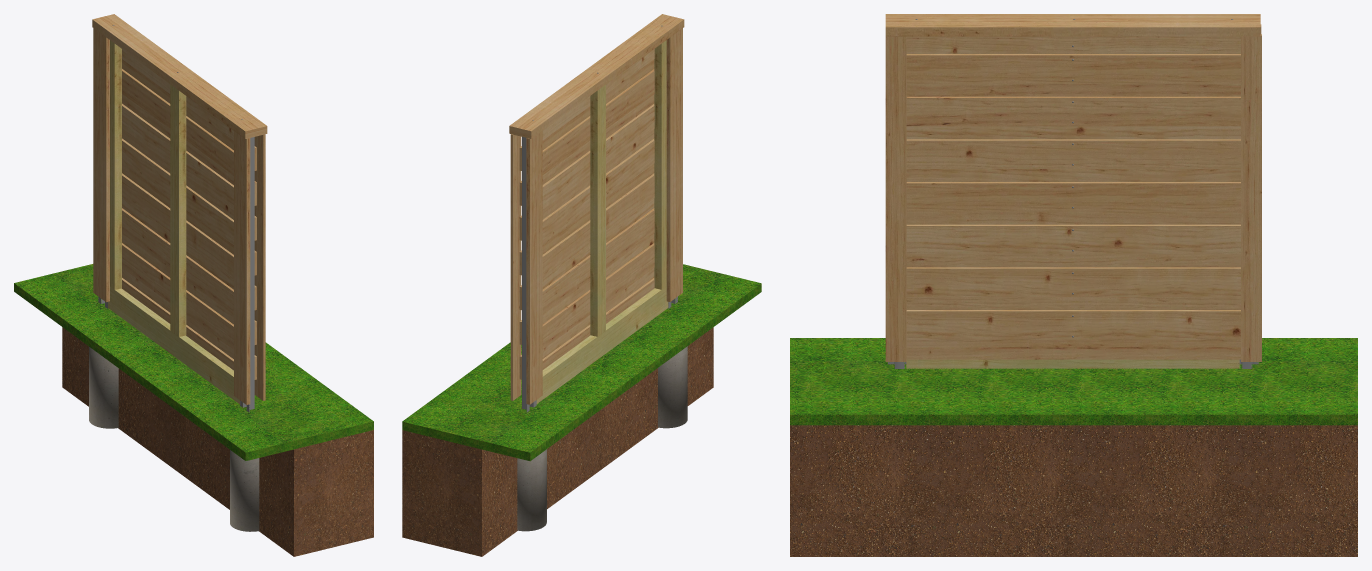
3 views of the same model, side by side, from view 1: azimuth 30°, elevation 25°; view 2: azimuth 150°, elevation 25°; view 3: azimuth 270°, elevation 25° (orthographic). The views are drawn at different scales.
Visible parts, largest first — view 1: Model32, Left_Plank, Right_Plank; view 2: Model32, Right_Plank, Left_Plank; view 3: Model32.
Boxes of the visible parts, x1,y1,x2,y2 form: Model32: [14, 14, 373, 556]; Left_Plank: [234, 131, 250, 404]; Right_Plank: [93, 28, 109, 302]; Model32: [402, 14, 761, 556]; Right_Plank: [526, 131, 542, 404]; Left_Plank: [666, 28, 682, 301]; Model32: [790, 14, 1357, 556].
Bounding box in the file's own units: 0.8836 × 2.63 × 2.77.
6 materials, 5 textured.
